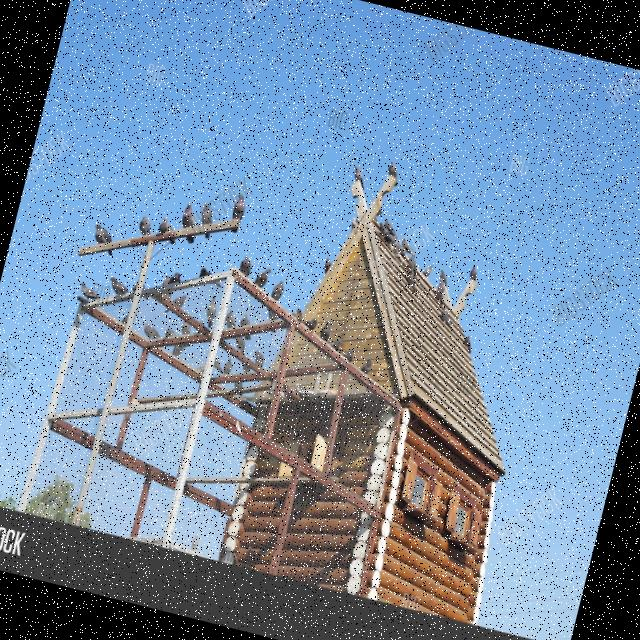bird: (175, 202, 203, 246), (88, 222, 118, 254), (232, 312, 255, 351), (154, 216, 181, 246), (161, 290, 186, 317), (105, 276, 132, 300), (202, 294, 221, 328), (228, 192, 248, 224), (76, 280, 102, 304), (196, 200, 217, 228), (252, 264, 272, 290), (130, 282, 154, 302), (268, 278, 286, 304), (136, 214, 154, 238), (141, 322, 163, 341), (237, 254, 254, 278), (317, 318, 333, 342), (300, 314, 318, 334), (290, 306, 305, 323), (321, 256, 333, 276), (168, 270, 182, 287), (359, 357, 372, 375), (292, 382, 306, 398), (372, 368, 388, 382), (328, 337, 342, 352), (341, 348, 355, 363), (158, 274, 170, 291), (198, 266, 212, 280), (164, 326, 178, 340), (82, 260, 95, 274), (120, 312, 130, 324), (202, 230, 212, 242)
